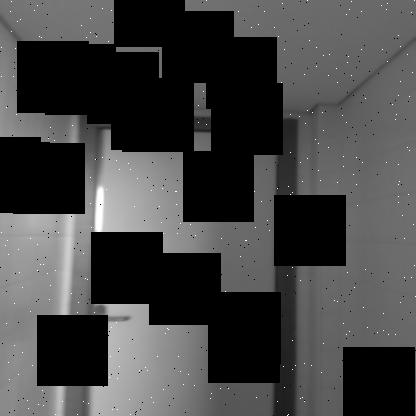Porte: (63, 110, 302, 416)
